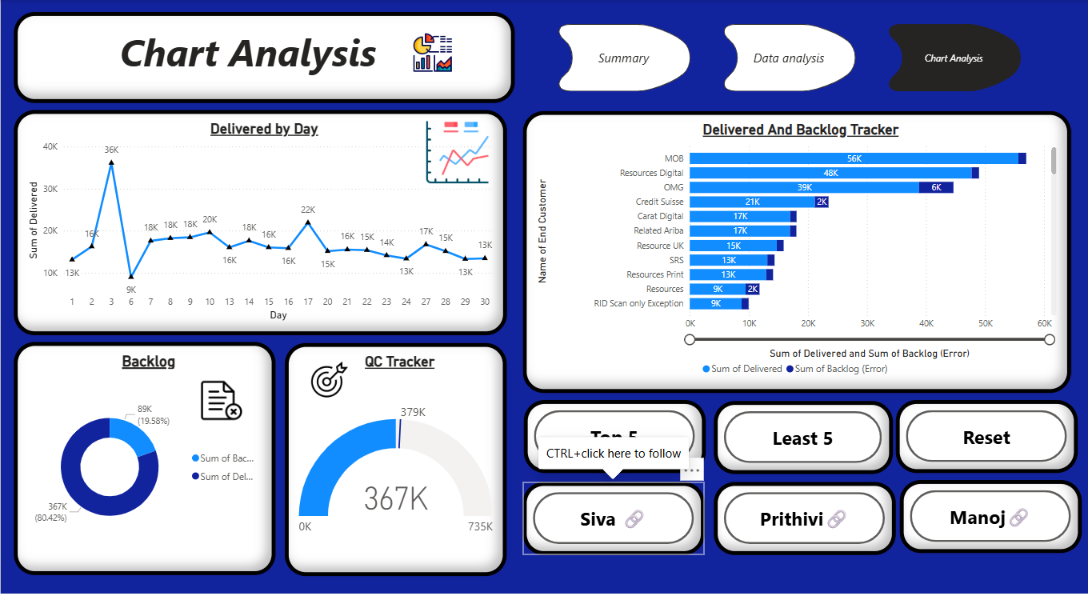

This screenshot's page, from the dashboard's own definition file:
{"tool":"powerbi","page":{"name":"Chart Analysis","canvas":[1550,850],"ordinal":2},"visuals":[{"type":"textbox","box":[18.5,17.1,713.6,129.6],"z":0},{"type":"pageNavigator","box":[774.8,34.2,696.5,96.9],"z":1000},{"type":"lineChart","title":"Delivered by Day","fields":{"Category":["Fact Table.Date.Variation.Date Hierarchy.Year","Fact Table.Date.Variation.Date Hierarchy.Quarter","Fact Table.Date.Variation.Date Hierarchy.Month","Fact Table.Date.Variation.Date Hierarchy.Day"],"Y":["Sum(Fact Table.Delivered)"]},"box":[18.5,156.7,702.2,320.5],"z":2000},{"type":"donutChart","title":"Backlog","fields":{"Y":["Sum(Fact Table.Backlog (Error))","Sum(Fact Table.Delivered)"]},"box":[18.5,487.1,373.2,331.9],"z":3000},{"type":"gauge","title":"QC Tracker","fields":{"TargetValue":["Sum(Fact Table.Capacity of QC / Sampling per day)"],"Y":["Sum(Fact Table.Delivered)"]},"box":[404.5,488.5,316.2,331.9],"z":4000},{"type":"barChart","title":"Delivered And Backlog Tracker","fields":{"Category":["Cus_Dim.Name of End Customer"],"Y":["Sum(Fact Table.Delivered)","Sum(Fact Table.Backlog (Error))"]},"box":[743.5,158.1,780.5,401.6],"z":5000},{"type":"actionButton","box":[744.9,569.7,259.2,104],"z":6000},{"type":"actionButton","box":[1015.5,571.1,254.9,104],"z":7000},{"type":"actionButton","box":[1274.7,569.7,259.2,104],"z":8000},{"type":"image","box":[562.7,45.1,104.7,58.2],"z":9000},{"type":"image","box":[568.5,173,164.3,88.7],"z":10000},{"type":"image","box":[258.8,535.1,110.5,69.8],"z":11000},{"type":"image","box":[415.9,511.8,104.7,58.2],"z":12000},{"type":"actionButton","box":[743.5,686.5,259.2,104],"z":13000},{"type":"actionButton","box":[1015.5,686.5,259.2,104],"z":14000},{"type":"actionButton","box":[1280.4,683.6,259.2,104],"z":15000}]}

Visuals, with their boxes in screenshot pixels (x1, y1, x2, y2), scaled from the page's 1550x850 canvas onto the 1088x594 screenshot:
textbox: bbox=[13, 12, 514, 103]
pageNavigator: bbox=[544, 24, 1033, 92]
"Delivered by Day" lineChart: bbox=[13, 110, 506, 333]
"Backlog" donutChart: bbox=[13, 340, 275, 572]
"QC Tracker" gauge: bbox=[284, 341, 506, 573]
"Delivered And Backlog Tracker" barChart: bbox=[522, 110, 1070, 391]
actionButton: bbox=[523, 398, 705, 471]
actionButton: bbox=[713, 399, 892, 472]
actionButton: bbox=[895, 398, 1077, 471]
image: bbox=[395, 32, 468, 72]
image: bbox=[399, 121, 514, 183]
image: bbox=[182, 374, 259, 423]
image: bbox=[292, 358, 365, 398]
actionButton: bbox=[522, 480, 704, 552]
actionButton: bbox=[713, 480, 895, 552]
actionButton: bbox=[899, 478, 1081, 550]
